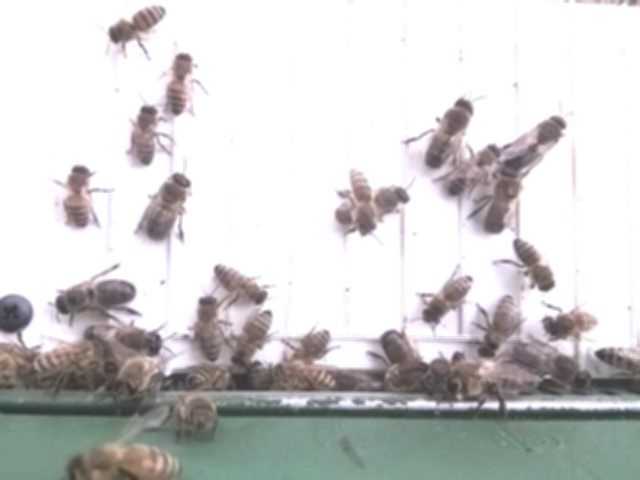Drone: (496, 111, 571, 177), (422, 87, 480, 169), (512, 335, 595, 392), (140, 168, 197, 243), (54, 274, 144, 316), (482, 164, 525, 235), (80, 321, 166, 356), (370, 324, 425, 371)
Worker: (60, 441, 189, 479), (443, 353, 542, 402), (416, 271, 480, 327), (110, 354, 165, 413), (473, 294, 527, 354), (208, 257, 273, 305), (161, 47, 203, 120), (189, 287, 231, 360), (271, 359, 345, 399), (228, 306, 278, 364), (105, 1, 168, 47), (173, 383, 224, 439), (443, 145, 500, 195), (508, 237, 559, 291), (122, 102, 165, 165), (285, 319, 338, 369), (539, 302, 602, 344), (61, 160, 95, 232), (346, 167, 379, 237)
